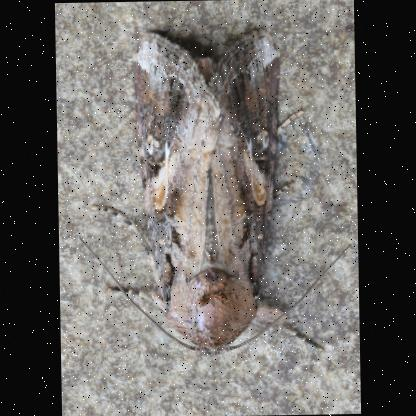Fall Armyworm Moth: (72, 23, 356, 358)
